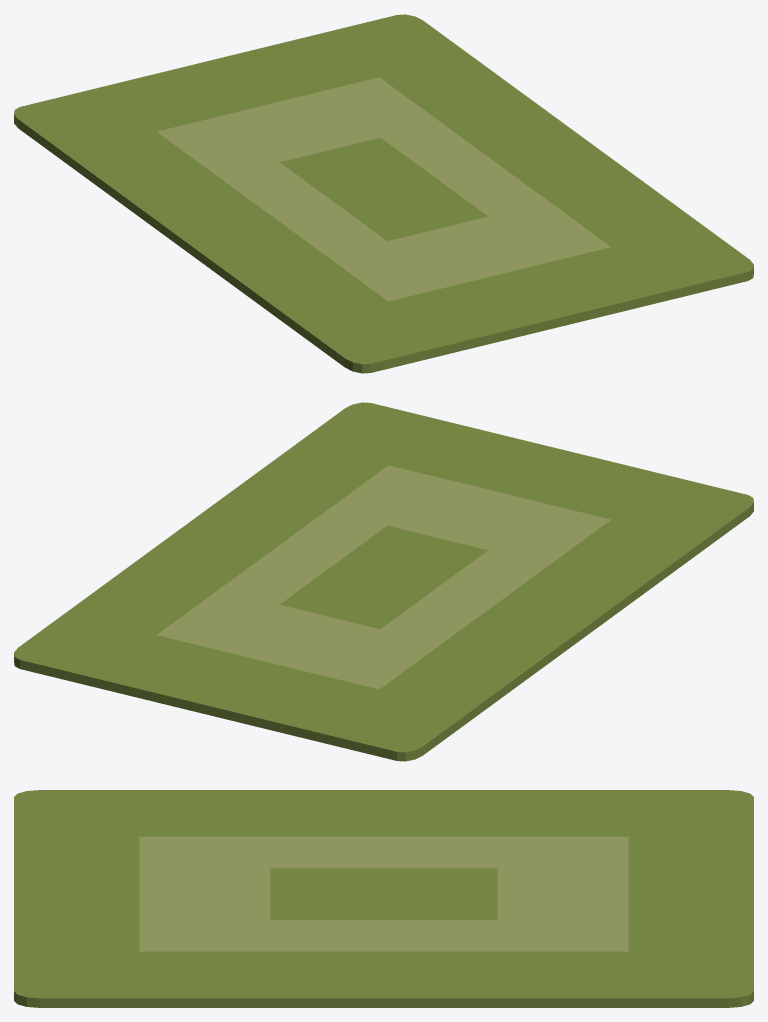
File: Carpet_04.fbx
The picture shows the model from 3 angles, top to bottom: view 1: azimuth 30°, elevation 25°; view 2: azimuth 150°, elevation 25°; view 3: azimuth 270°, elevation 25°; orthographic projection. The views are drawn at different scales.
Parts seen in each view (by area): view 1: Carpet_04; view 2: Carpet_04; view 3: Carpet_04.
Boxes of the visible parts, bbox=[...] form: Carpet_04: bbox=[14, 14, 753, 373]; Carpet_04: bbox=[14, 402, 753, 761]; Carpet_04: bbox=[14, 790, 753, 1007].
Size of the model in its own units: 63.68 by 1.38 by 95.64.
